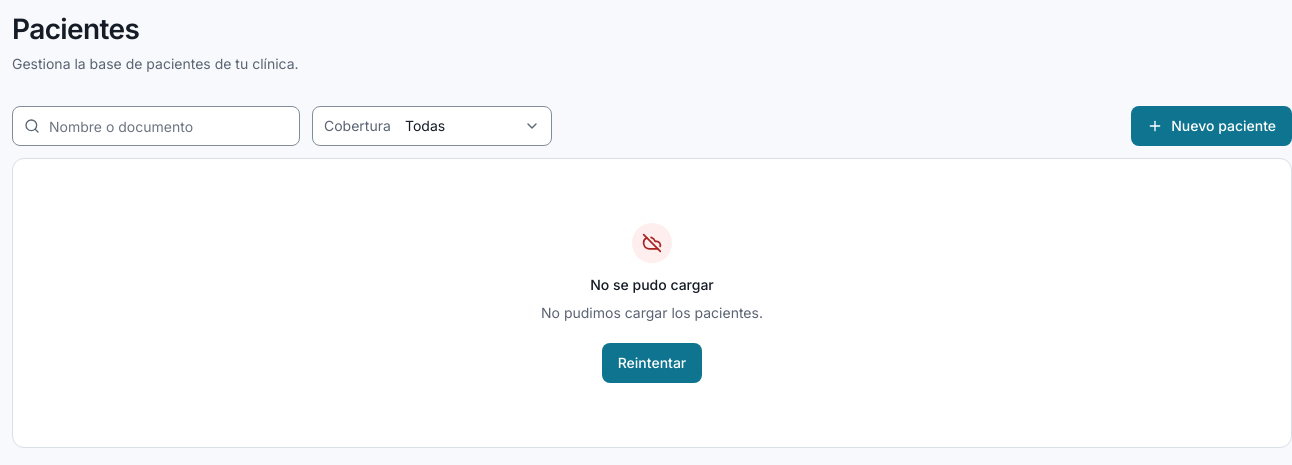
Scenario: PatientsView › si la carga falla ofrece reintentar, y el reintento vuelve a pedir
Step 1. Click the button "Reintentar" → (652, 363), box [602,343,702,383]
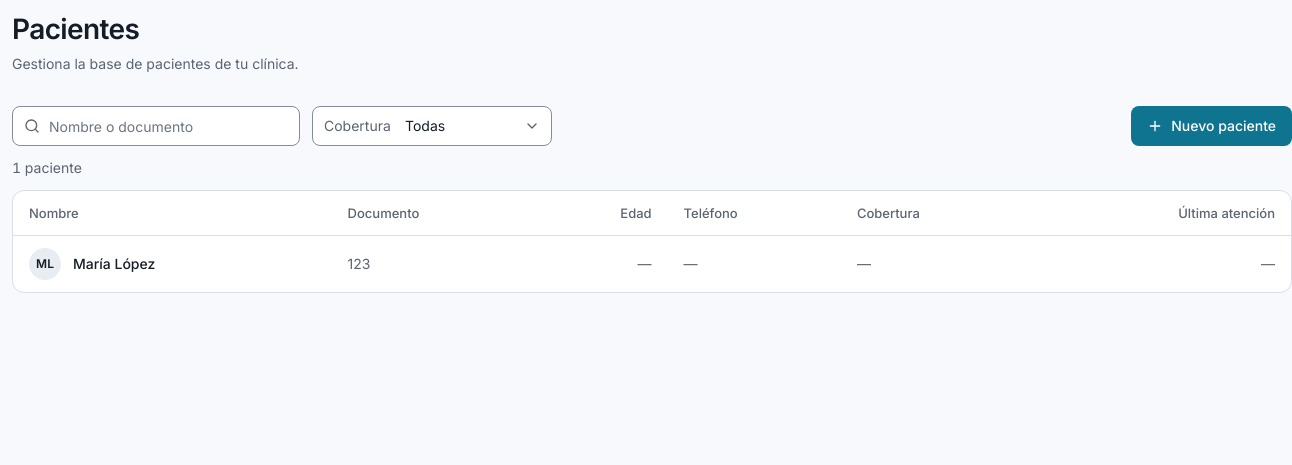
expect the text "1 paciente" is shown: met, box [12,159,82,176]
